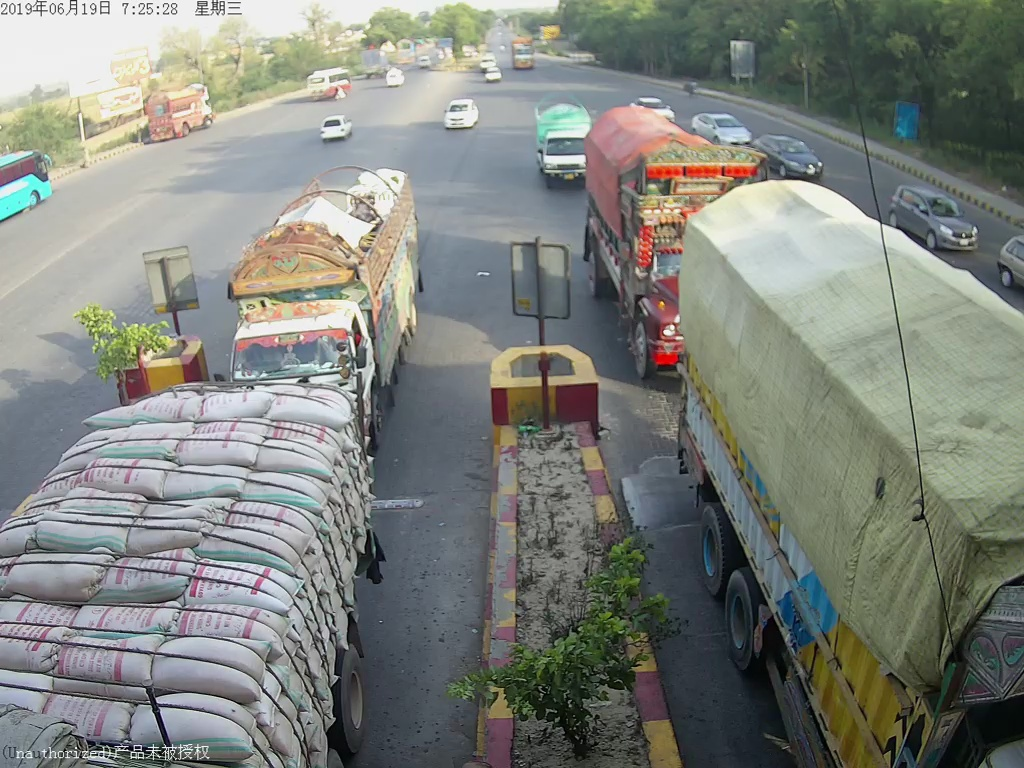Cat-2: (534, 103, 583, 190)
Cat-4: (227, 190, 440, 390), (590, 103, 674, 355)
